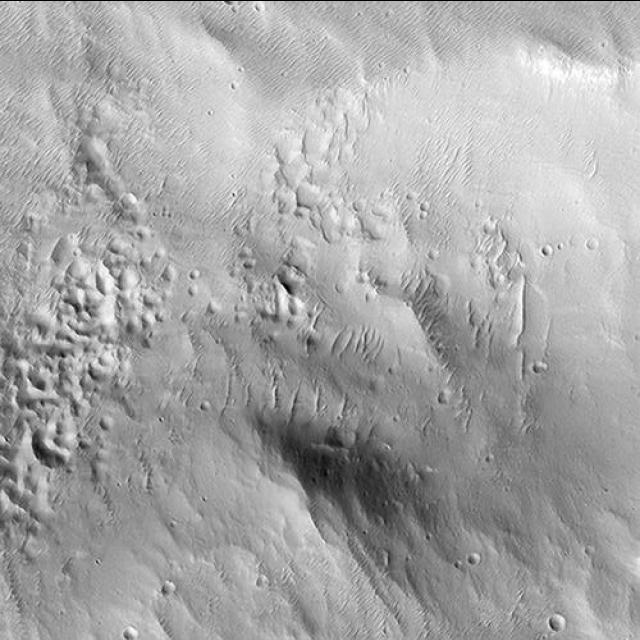crater: (429, 380, 463, 414), (523, 352, 553, 384), (544, 602, 569, 640), (412, 197, 440, 227), (184, 257, 212, 287), (156, 572, 182, 604), (111, 616, 143, 640), (462, 544, 488, 572), (479, 442, 503, 472), (118, 189, 142, 215), (558, 623, 592, 640), (161, 512, 183, 534), (196, 394, 214, 418), (420, 244, 440, 264), (212, 0, 245, 12), (512, 626, 536, 640), (152, 628, 176, 640), (114, 628, 132, 640), (0, 627, 14, 640), (120, 630, 138, 640)
